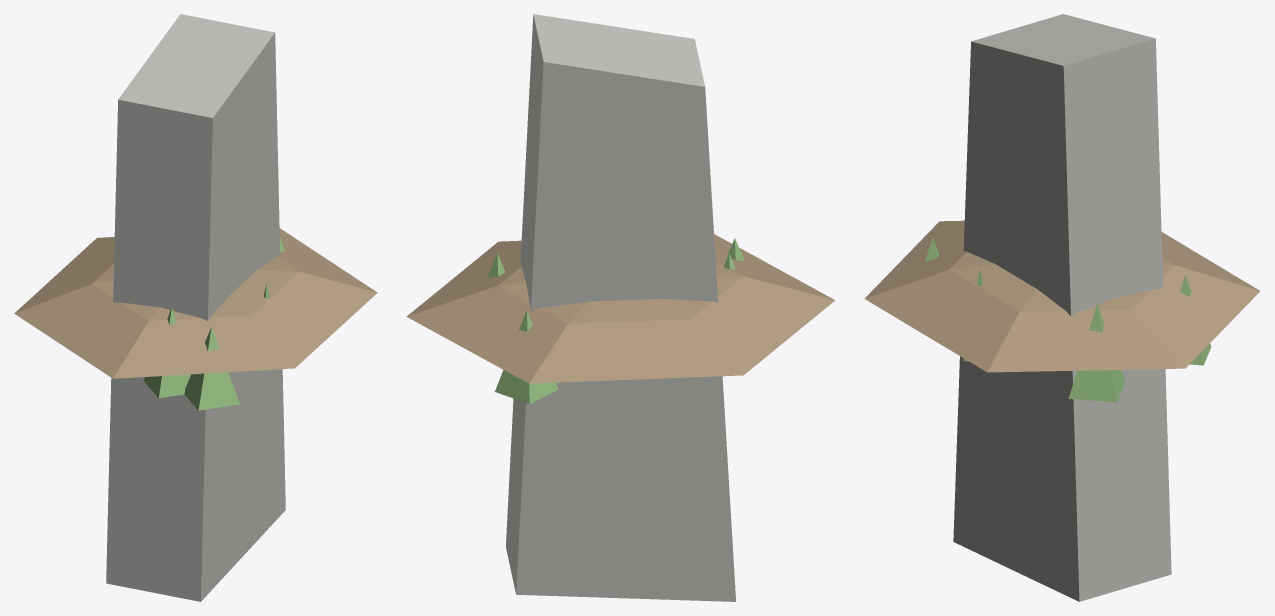
Rendered from town_standing_stone.glb.
The picture shows the model from 3 angles, left to right: view 1: azimuth 30°, elevation 25°; view 2: azimuth 150°, elevation 25°; view 3: azimuth 270°, elevation 25°; orthographic projection. The views are drawn at different scales.
Parts seen in each view (by area): view 1: world; view 2: world; view 3: world.
Part boxes in pixels (x1,y1,x2,y2): world: [14, 14, 377, 601]; world: [406, 14, 835, 601]; world: [864, 14, 1260, 601].
Bounding box in the file's own units: 1.23 × 2 × 1.32.
